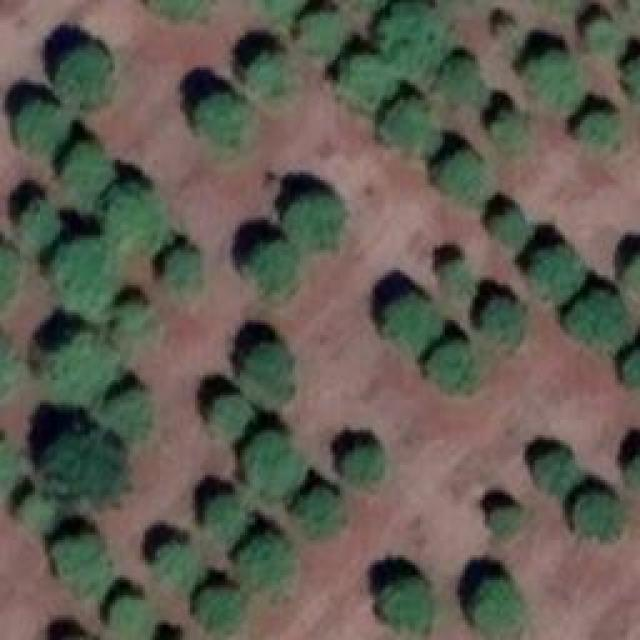Tree: (38, 420, 118, 498), (380, 13, 452, 81), (50, 238, 119, 303), (53, 43, 121, 107), (520, 50, 595, 108), (47, 341, 116, 398), (18, 100, 82, 161), (105, 185, 168, 245), (195, 95, 255, 156), (378, 100, 441, 158), (378, 290, 445, 341), (285, 194, 347, 248), (243, 238, 296, 298), (532, 250, 589, 305), (473, 577, 526, 636), (58, 532, 112, 589), (235, 532, 287, 590), (248, 428, 296, 490), (245, 43, 300, 96), (68, 150, 120, 206), (243, 340, 297, 393), (441, 155, 498, 204), (340, 54, 391, 108), (575, 493, 623, 548), (112, 305, 159, 361), (103, 590, 157, 638), (297, 10, 354, 55), (430, 340, 479, 392), (195, 588, 248, 635), (573, 298, 623, 347), (160, 243, 208, 294), (157, 538, 203, 589), (383, 575, 432, 622), (340, 440, 383, 491), (203, 495, 250, 540), (110, 393, 154, 441), (533, 450, 576, 497), (20, 198, 62, 244), (440, 63, 486, 105), (480, 298, 525, 339), (488, 503, 530, 545), (300, 490, 340, 534), (210, 400, 252, 438), (485, 105, 525, 143), (448, 260, 484, 301), (0, 250, 21, 317), (588, 120, 626, 155), (585, 23, 619, 60), (2, 342, 22, 399), (0, 443, 19, 502), (495, 215, 524, 250), (23, 495, 52, 529), (625, 352, 640, 400), (498, 18, 522, 48), (623, 253, 640, 294), (625, 58, 640, 93), (625, 450, 639, 486)
